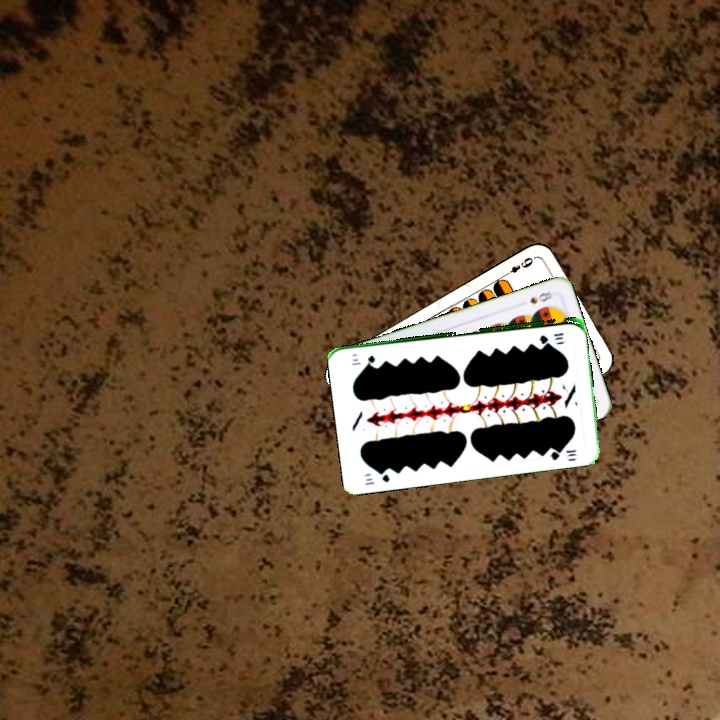E9: (500, 253, 536, 279)
G10: (361, 466, 392, 487), (535, 329, 566, 345)
S8: (526, 287, 557, 306)
